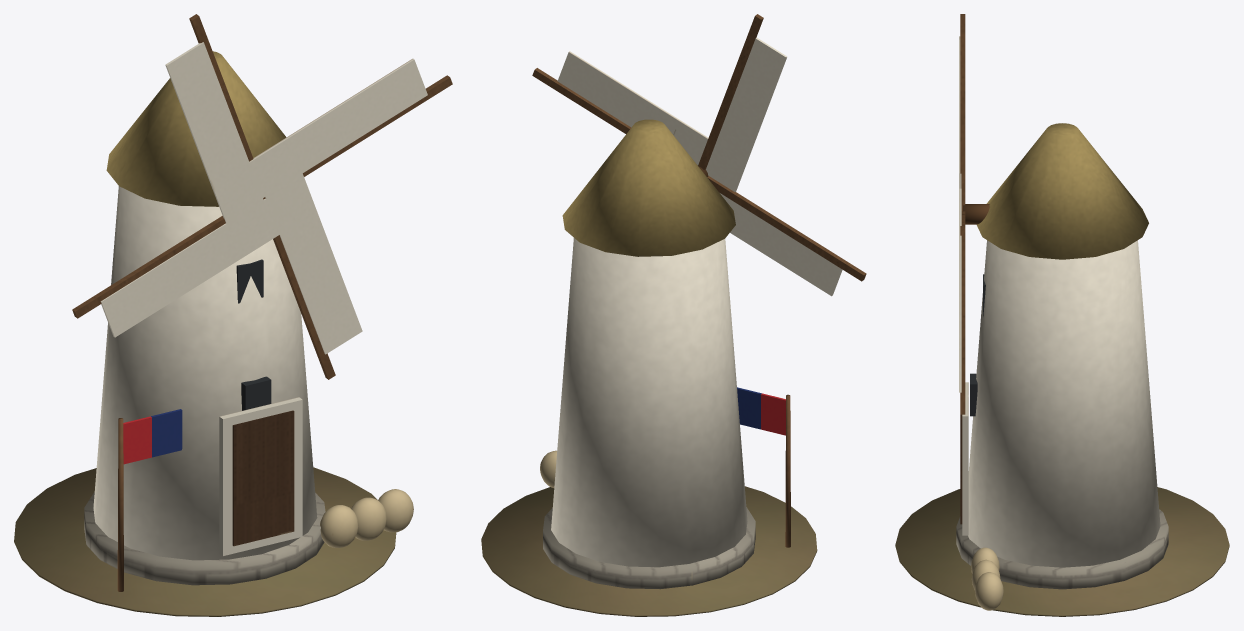
The model's file is windmill_br.glb.
The picture shows the model from 3 angles, left to right: view 1: azimuth 30°, elevation 25°; view 2: azimuth 150°, elevation 25°; view 3: azimuth 270°, elevation 25°; orthographic projection. The views are drawn at different scales.
Parts seen in each view (by area): view 1: windmill_br; view 2: windmill_br; view 3: windmill_br.
Boxes of the visible parts, x1,y1,x2,y2 form: windmill_br: (14, 14, 452, 616); windmill_br: (481, 14, 866, 616); windmill_br: (895, 14, 1229, 616).
Bounding box in the file's own units: 5.91 × 8.67 × 5.2.
1 material, 1 textured.
